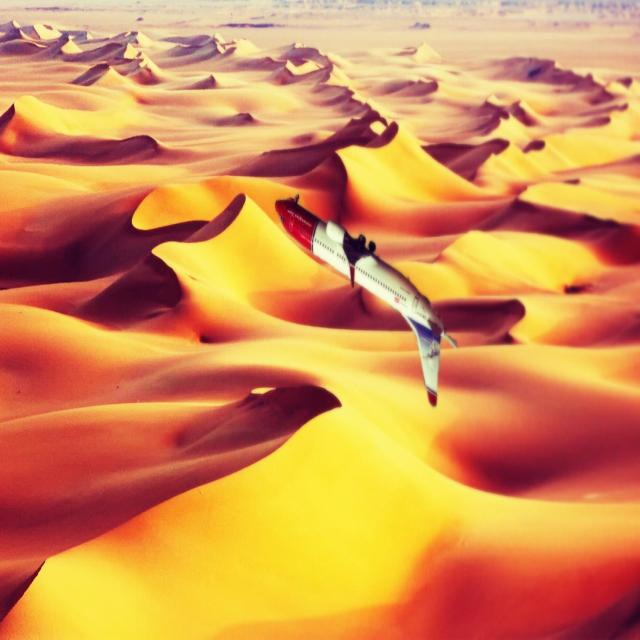airplane: (276, 194, 458, 408)
